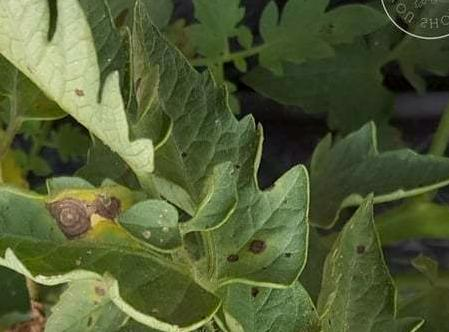Tomato Early blight leaf: (0, 168, 218, 332)
Tomato leaf: (295, 115, 449, 236), (252, 0, 394, 86)
